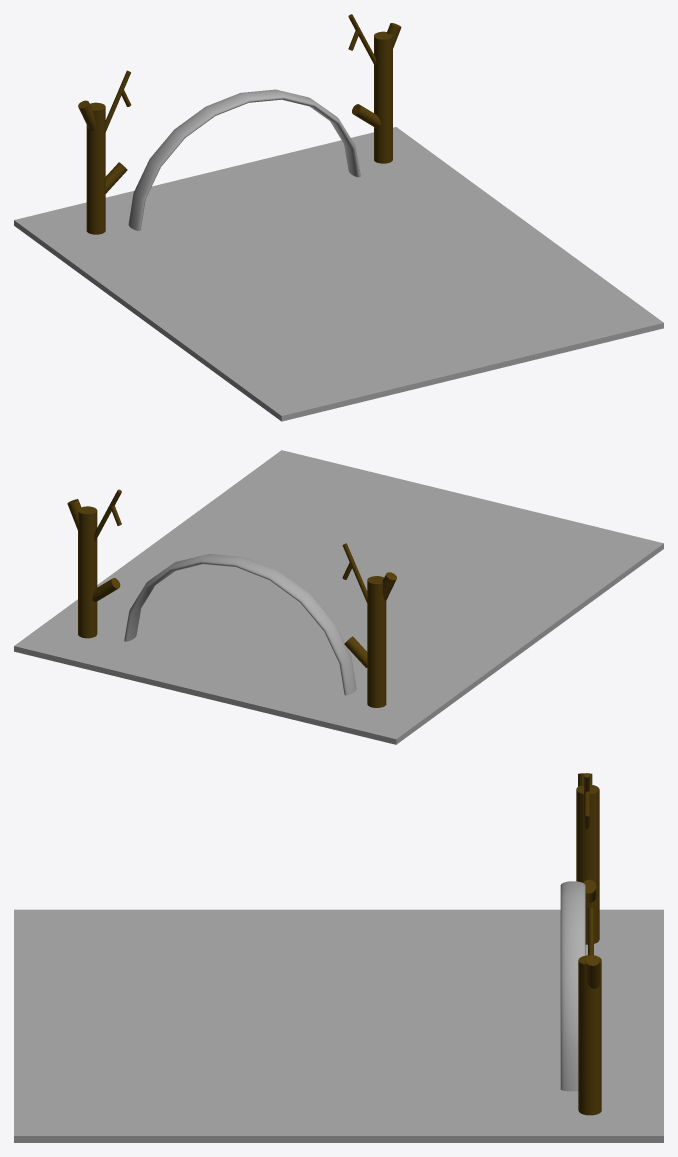
File: TempScene.fbx
3 renders of one model, top to bottom at view 1: azimuth 30°, elevation 25°; view 2: azimuth 150°, elevation 25°; view 3: azimuth 270°, elevation 25°, orthographic. The views are drawn at different scales.
Visible parts, largest first — view 1: pCube1, pCylinder1 (×2), pTorus1; view 2: pCube1, pCylinder1 (×2), pTorus1; view 3: pCube1, pCylinder1 (×2), pTorus1.
Boxes of the visible parts, bbox=[...] form: pCube1: bbox=[14, 127, 663, 421]; pCylinder1 (×2): bbox=[86, 31, 392, 234]; pTorus1: bbox=[128, 89, 360, 230]; pCube1: bbox=[14, 450, 663, 744]; pCylinder1 (×2): bbox=[78, 506, 386, 707]; pTorus1: bbox=[124, 554, 356, 695]; pCube1: bbox=[14, 909, 663, 1142]; pCylinder1 (×2): bbox=[576, 784, 601, 1115]; pTorus1: bbox=[560, 881, 585, 1091].
Size of the model in its own units: 21.64 by 8.54 by 26.25.
